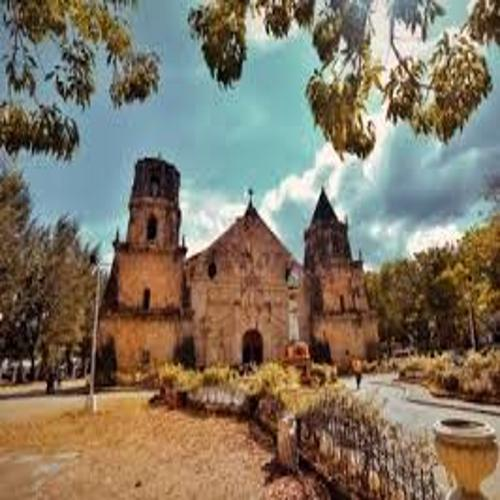Miagao Church: (98, 147, 384, 382)
